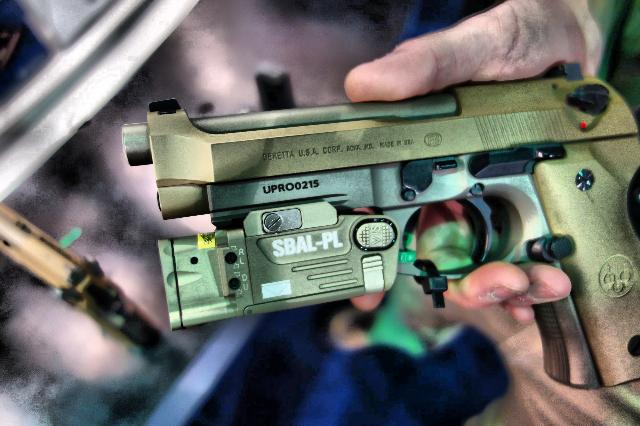pistol: (120, 61, 640, 388)
